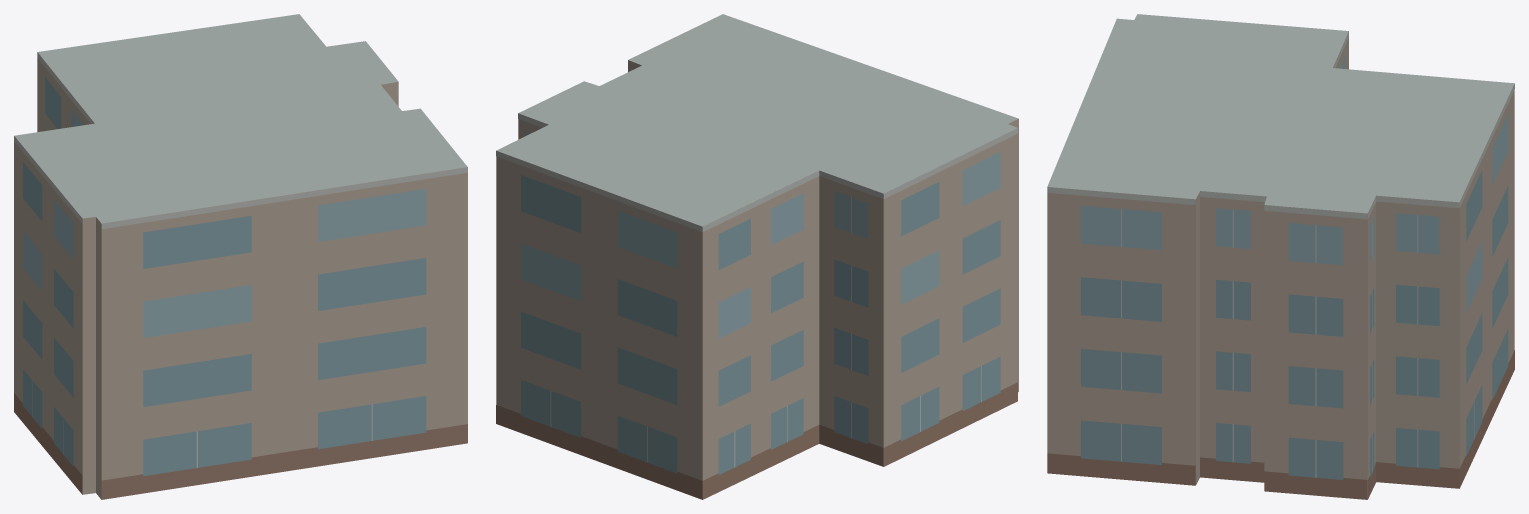
Rendered from survey-upis-32531822.glb.
3 renders of one model, left to right at view 1: azimuth 30°, elevation 25°; view 2: azimuth 150°, elevation 25°; view 3: azimuth 270°, elevation 25°, orthographic. The views are drawn at different scales.
Visible parts, largest first — view 1: survey-upis-32531822.tmp; view 2: survey-upis-32531822.tmp; view 3: survey-upis-32531822.tmp.
Boxes of the visible parts, x1,y1,x2,y2 form: survey-upis-32531822.tmp: (14, 14, 467, 499); survey-upis-32531822.tmp: (496, 14, 1018, 499); survey-upis-32531822.tmp: (1047, 14, 1514, 499).
Size of the model in its own units: 17.78 by 11.9 by 17.62.
